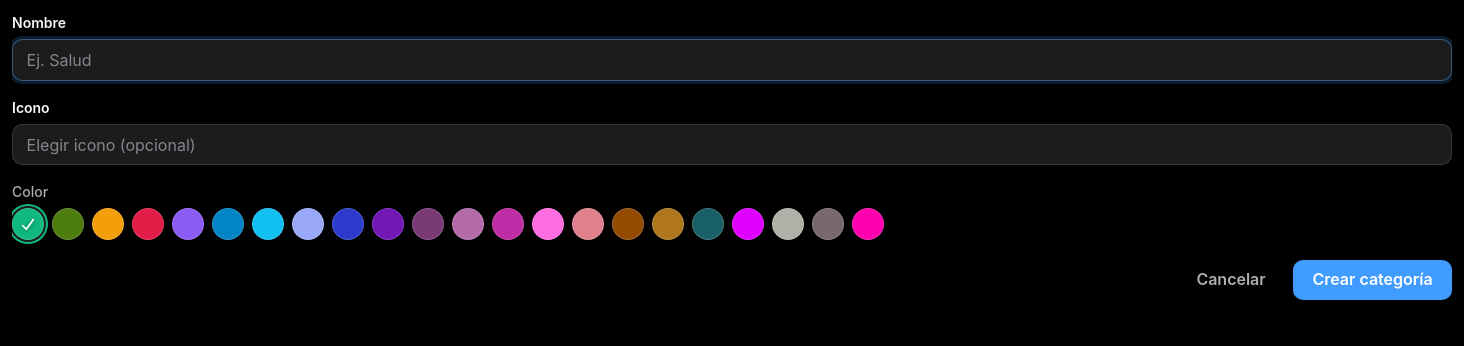
Test case: CreateHabitCategoryStep — lo de siempre sigue igual (criterio 18) › sin nombre no crea y lo dice en el campo
Step 1. Click the button "Crear categoría" → (1372, 280), box [1293, 260, 1452, 300]
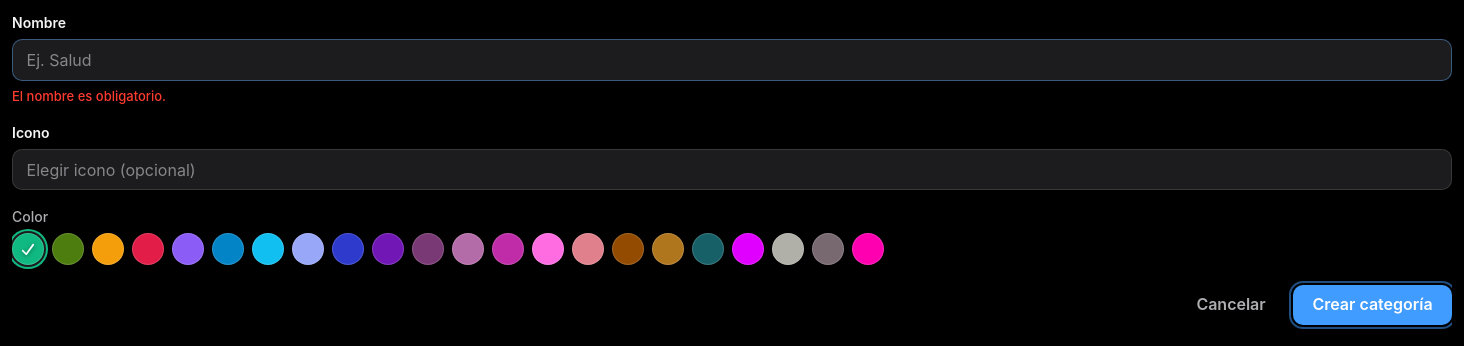
expect the text "El nombre es obligatorio." is shown: met, box [12, 88, 166, 104]
